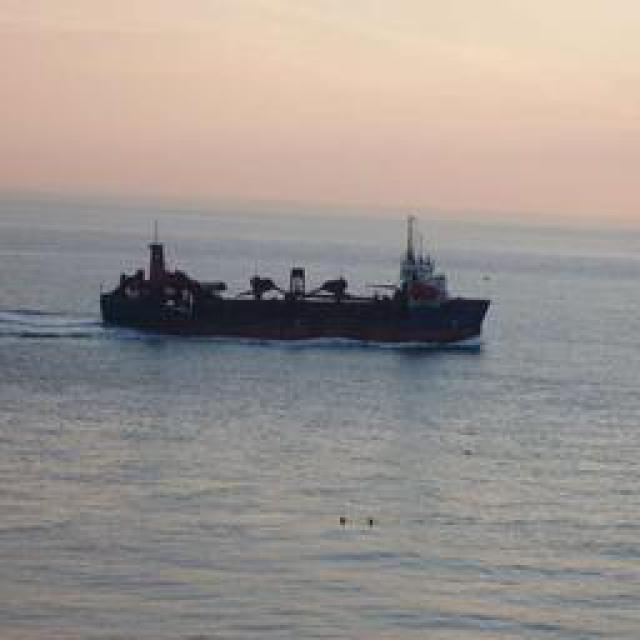Ship: (106, 219, 491, 349)
